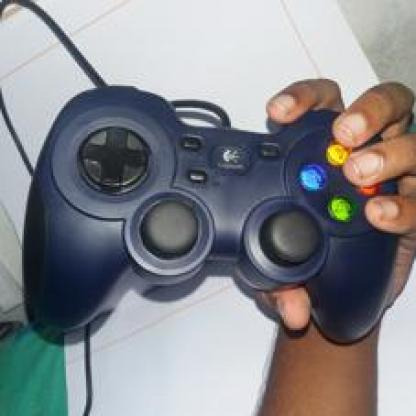gamepad: (26, 68, 400, 357)
